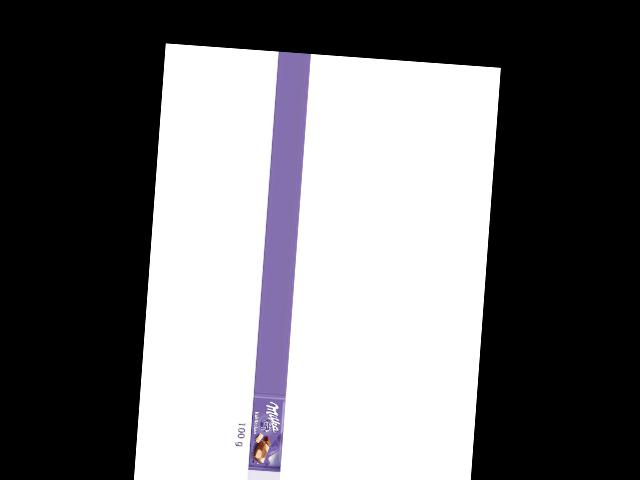chocolate: (243, 392, 286, 473)
